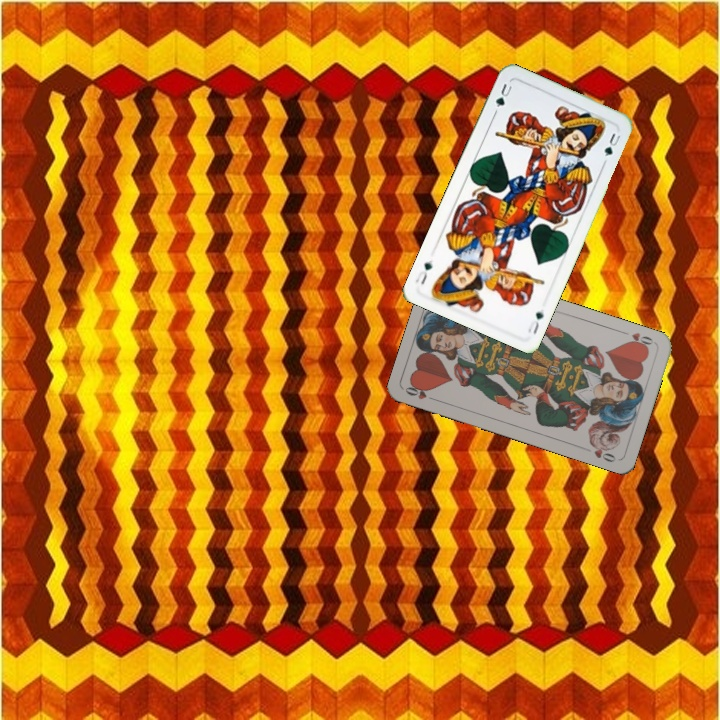GU: (491, 79, 515, 110), (523, 308, 546, 337)
HO: (401, 380, 441, 404), (618, 327, 656, 351)
